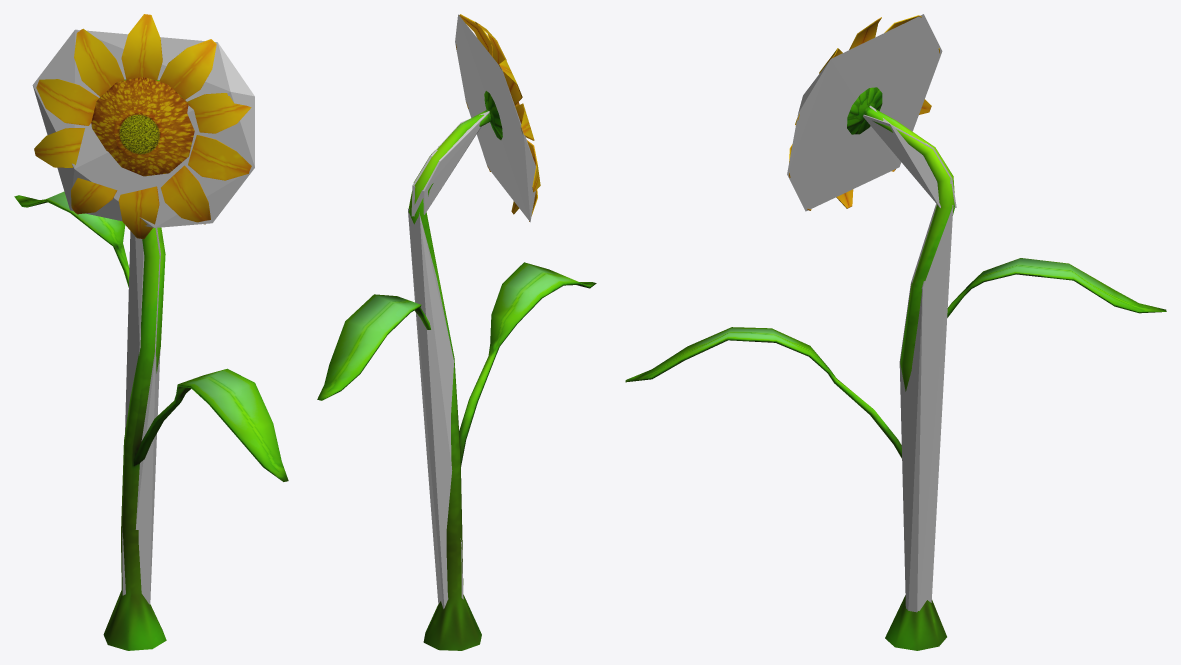
File: SM_Sunflower01.fbx
3 views of the same model, side by side, from view 1: azimuth 30°, elevation 25°; view 2: azimuth 150°, elevation 25°; view 3: azimuth 270°, elevation 25° (orthographic). The views are drawn at different scales.
Parts seen in each view (by area): view 1: SM_Sunflower01, SM_Sunflower01_ConvexHulls; view 2: SM_Sunflower01, SM_Sunflower01_ConvexHulls; view 3: SM_Sunflower01_ConvexHulls, SM_Sunflower01.
Boxes of the visible parts, left/top/right/bottom form: SM_Sunflower01: left=14, top=14, right=288, bottom=650; SM_Sunflower01_ConvexHulls: left=32, top=29, right=254, bottom=604; SM_Sunflower01: left=317, top=14, right=596, bottom=650; SM_Sunflower01_ConvexHulls: left=408, top=14, right=535, bottom=608; SM_Sunflower01_ConvexHulls: left=787, top=14, right=956, bottom=612; SM_Sunflower01: left=625, top=15, right=1166, bottom=650.
Bounding box in the file's own units: 54.1 × 173 × 219.
2 materials, 1 textured.
